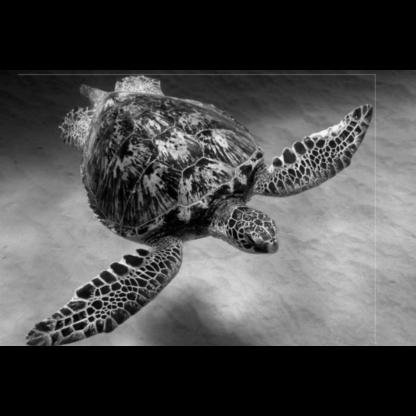turtle: (18, 73, 374, 343)
